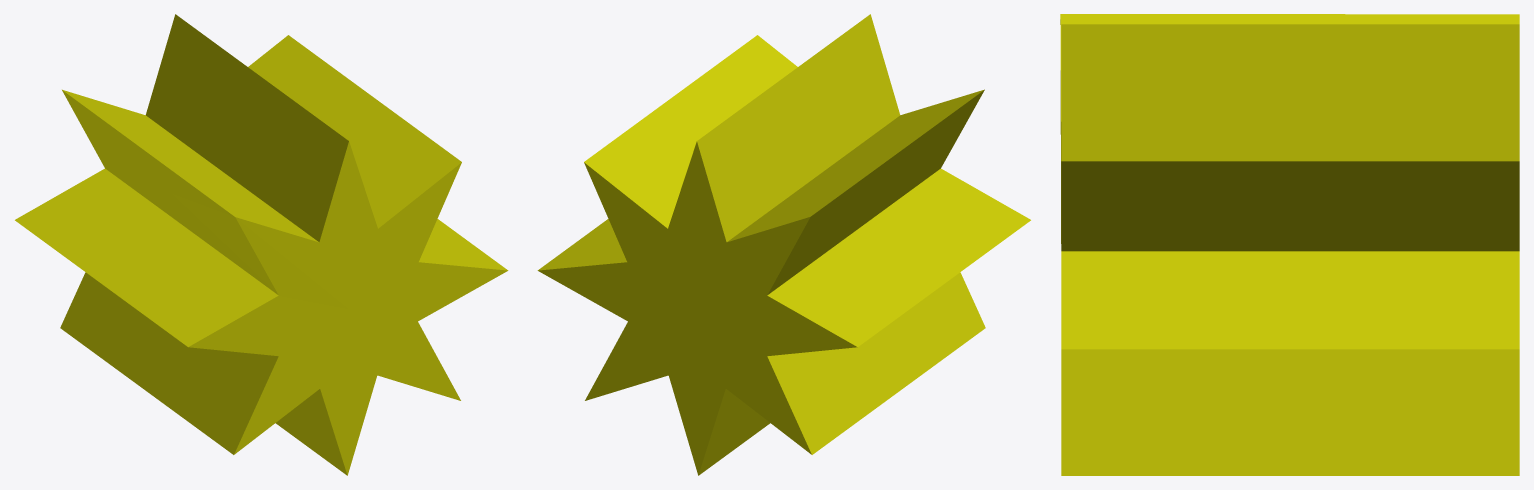
Rendered from Etoile.obj.
The picture shows the model from 3 angles, left to right: view 1: azimuth 30°, elevation 25°; view 2: azimuth 150°, elevation 25°; view 3: azimuth 270°, elevation 25°; orthographic projection. The views are drawn at different scales.
Parts seen in each view (by area): view 1: Etoile_Cube; view 2: Etoile_Cube; view 3: Etoile_Cube.
Part boxes in pixels (<box>): Etoile_Cube: <box>15,14,508,475</box>; Etoile_Cube: <box>537,14,1030,475</box>; Etoile_Cube: <box>1060,14,1519,475</box>.
Size of the model in its own units: 1.18 by 1.18 by 1.11.
